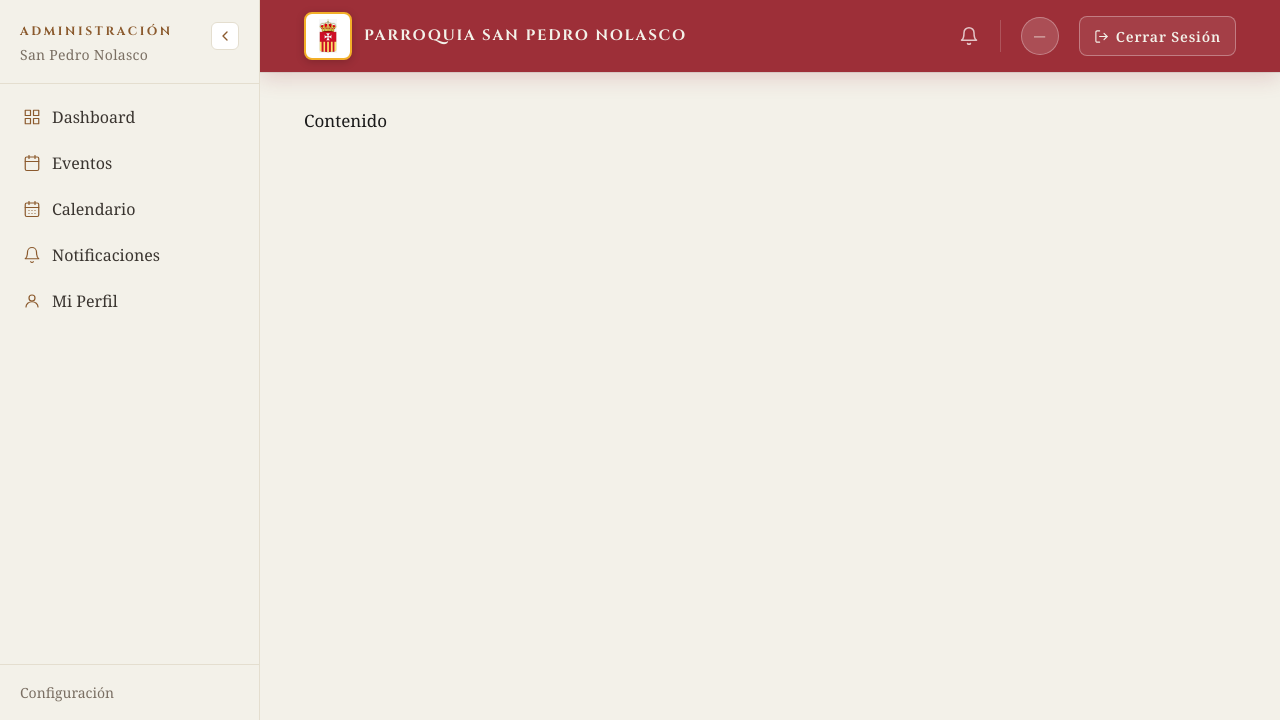
AppShell › alterna a colapsado al hacer click y lo guarda en localStorage
The image size is (1280, 720).
Click the button named "Ocultar menú": (225, 36) [211,22,239,50]
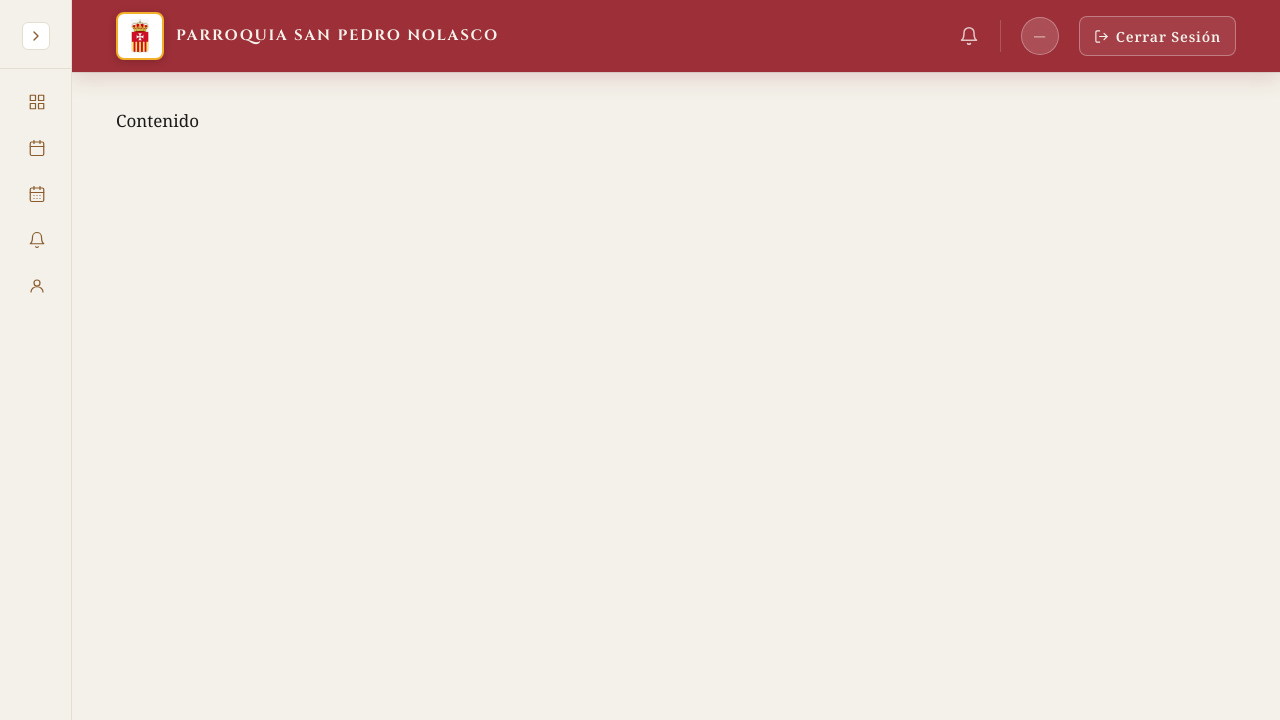
Result: the button named "Mostrar menú" is shown at [22,22,50,50]
